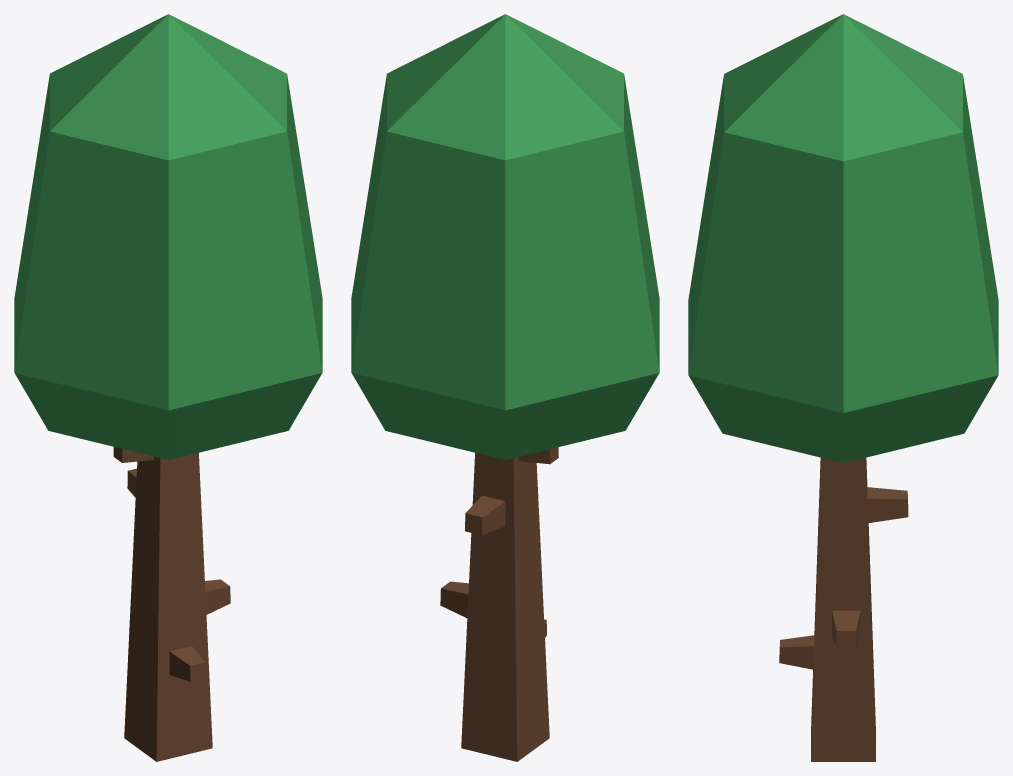
Rendered from tree_dark.glb.
3 views of the same model, side by side, from view 1: azimuth 30°, elevation 25°; view 2: azimuth 150°, elevation 25°; view 3: azimuth 270°, elevation 25° (orthographic).
Parts seen in each view (by area): view 1: tree_default_dark; view 2: tree_default_dark; view 3: tree_default_dark.
Part boxes in pixels (bbox=[...]): tree_default_dark: bbox=[14, 14, 322, 761]; tree_default_dark: bbox=[351, 14, 659, 761]; tree_default_dark: bbox=[688, 14, 998, 761].
Size of the model in its own units: 0.755 by 1.71 by 0.6539.
